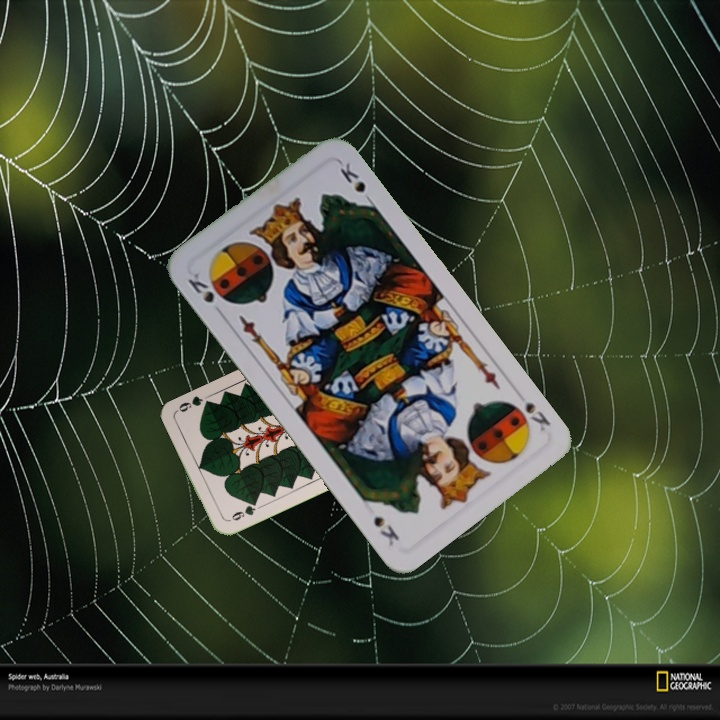G9: (224, 497, 260, 524)
SK: (183, 268, 218, 306), (521, 398, 553, 434)
